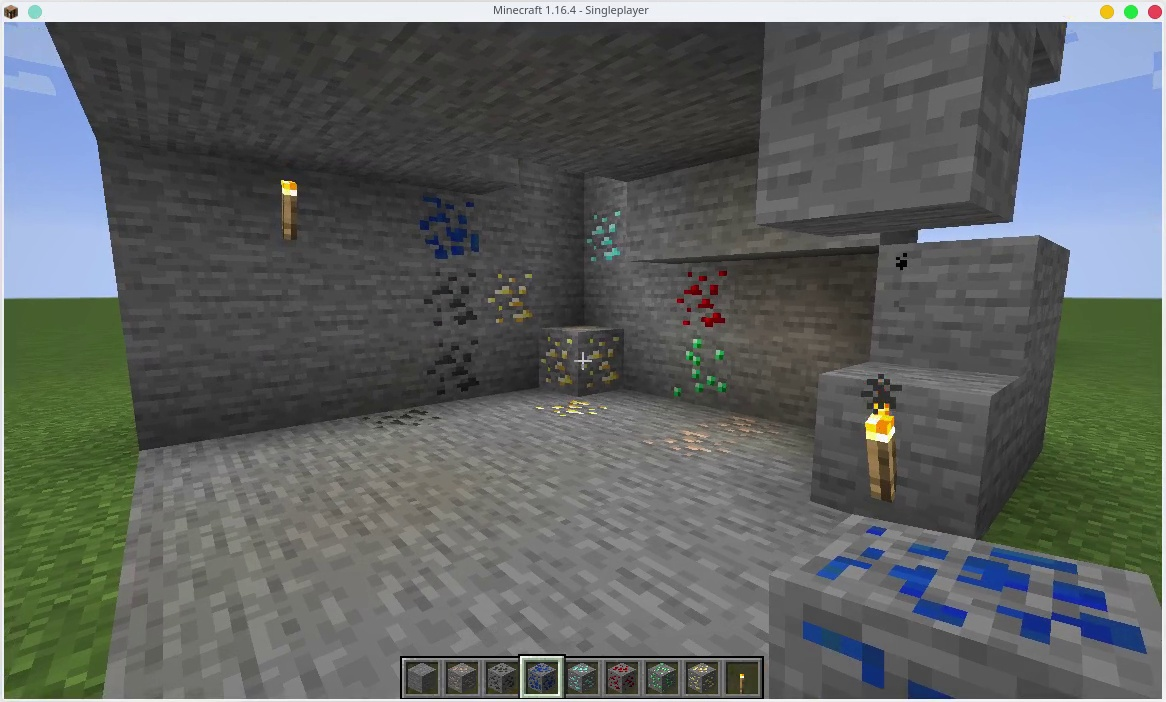gold: (543, 329, 626, 389), (484, 267, 534, 327), (543, 398, 614, 420), (685, 660, 714, 692)
